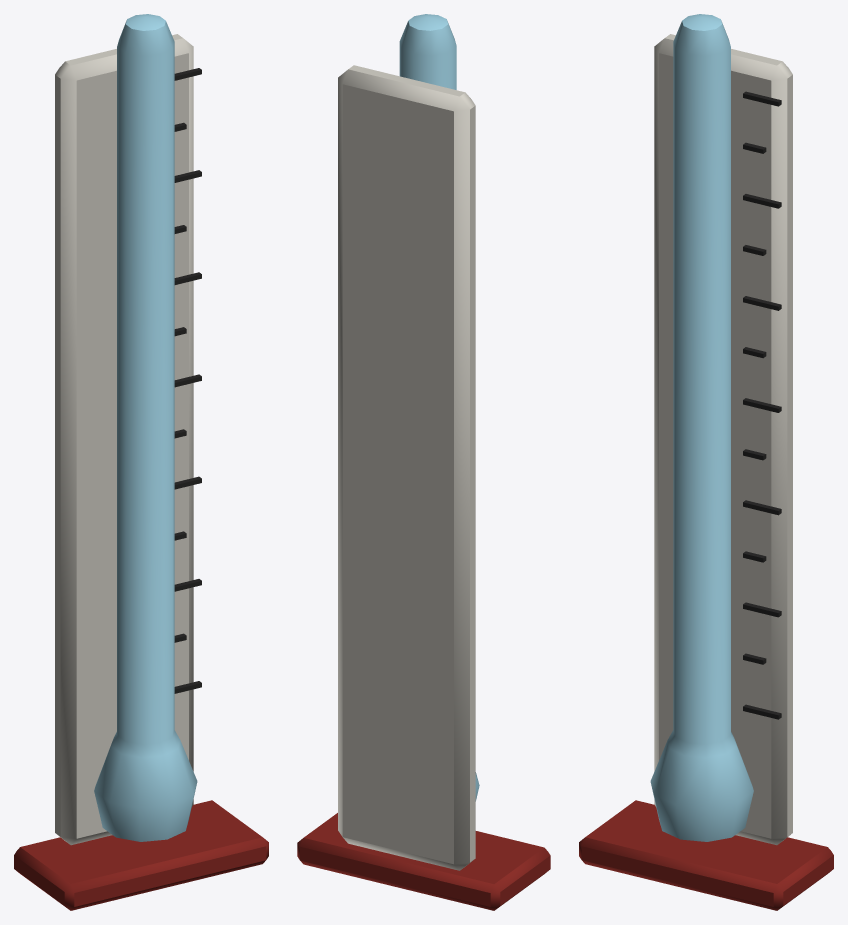
Rendered from 391_thermometre_geant.fbx.
3 views of the same model, side by side, from view 1: azimuth 30°, elevation 25°; view 2: azimuth 150°, elevation 25°; view 3: azimuth 330°, elevation 25° (orthographic).
Visible parts, largest first — view 1: Thermometre; view 2: Thermometre; view 3: Thermometre.
Boxes of the visible parts, <box> form: Thermometre: <box>14,14,268,910</box>; Thermometre: <box>297,14,550,910</box>; Thermometre: <box>579,14,833,910</box>.
Bounding box in the file's own units: 1.12 × 4.48 × 0.56.
1 material, 1 textured.
